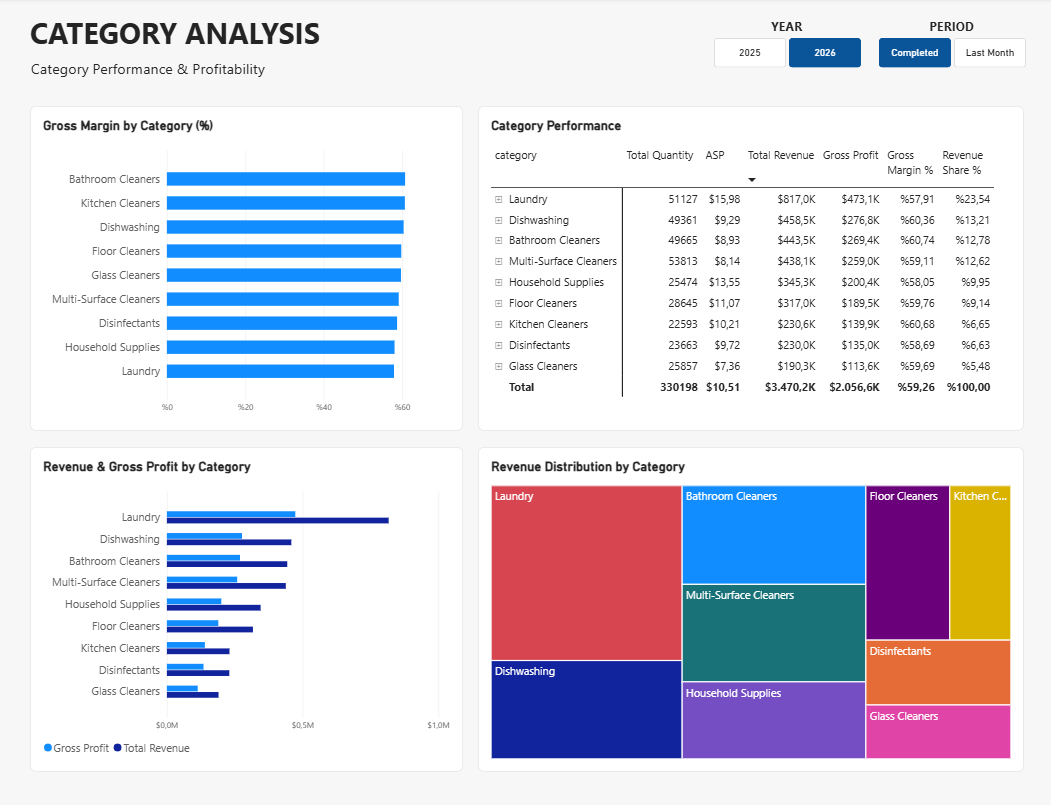

This screenshot's page, from the dashboard's own definition file:
{"tool":"powerbi","page":{"name":"Category Analysis","canvas":[1366,1050],"ordinal":1},"visuals":[{"type":"clusteredBarChart","title":"Gross Margin by Category (%)","fields":{"Category":["products.category","products.product_name"],"Y":["orders.Gross Margin %"]},"box":[40,140,560,420],"z":0},{"type":"clusteredBarChart","title":"Revenue & Gross Profit by Category","fields":{"Category":["products.category","products.product_name"],"Y":["orders.Gross Profit","orders.Total Revenue"]},"box":[40,580,560,420],"z":1000},{"type":"pivotTable","title":"Category Performance","fields":{"Rows":["products.category","products.product_name"],"Values":["_Measures.Total Quantity","_Measures.ASP","_Measures.Total Revenue","_Measures.Gross Profit","_Measures.Gross Margin %","_Measures.Revenue Share %"]},"box":[620,140,706,420],"z":2000},{"type":"treemap","title":"Revenue Distribution by Category","fields":{"Group":["products.category","products.product_name"],"Values":["_Measures.Total Revenue"]},"box":[620,580,706,420],"z":3000},{"type":"advancedSlicerVisual","fields":{"Values":["DimDate.MonthStatus"]},"box":[1138,52,190,38],"z":4000},{"type":"advancedSlicerVisual","fields":{"Values":["DimDate.Year"]},"box":[924,52,190,38],"z":5000},{"type":"textbox","box":[40,20,720,70],"z":6000},{"type":"textbox","box":[938.3,25.4,160,24],"z":7000},{"type":"textbox","box":[1152.7,25.4,160,24],"z":8000},{"type":"textbox","box":[42,78.4,450,25],"z":9000}]}

Visuals, with their boxes in screenshot pixels (x1, y1, x2, y2), scaled from the page's 1366x1050 canvas onto the 1051x805 screenshot:
"Gross Margin by Category (%)" clusteredBarChart: 31:107:462:429
"Revenue & Gross Profit by Category" clusteredBarChart: 31:445:462:767
"Category Performance" pivotTable: 477:107:1020:429
"Revenue Distribution by Category" treemap: 477:445:1020:767
advancedSlicerVisual - DimDate.MonthStatus: 876:40:1022:69
advancedSlicerVisual - DimDate.Year: 711:40:857:69
textbox: 31:15:585:69
textbox: 722:19:845:38
textbox: 887:19:1010:38
textbox: 32:60:379:79
